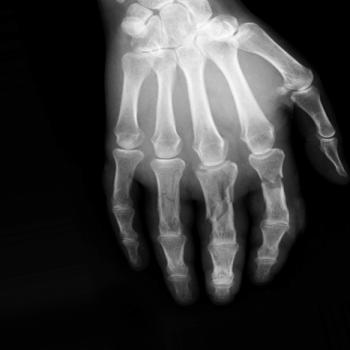Fracture: (198, 181, 241, 229), (256, 165, 290, 195), (154, 179, 186, 209)
